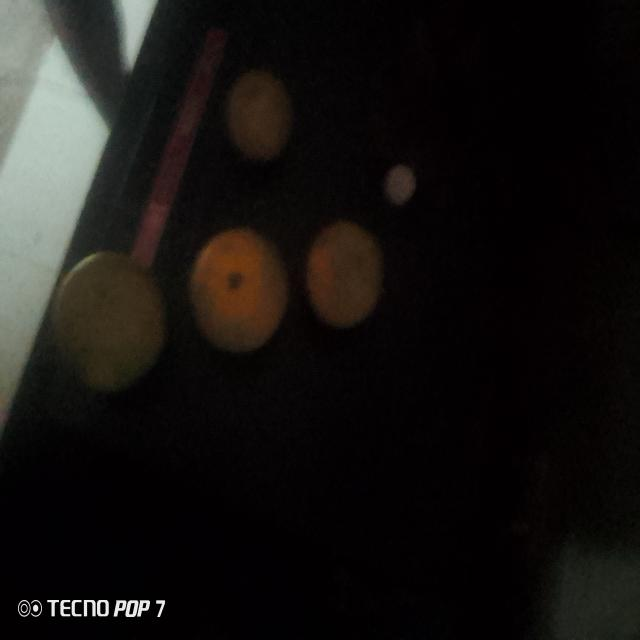Ripe orange: (54, 255, 168, 383), (189, 229, 291, 358), (305, 216, 378, 326), (224, 71, 299, 170)
